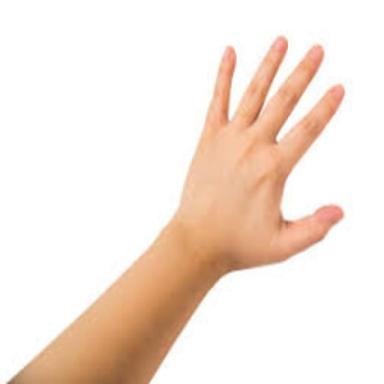normal skin: (9, 37, 343, 384)
